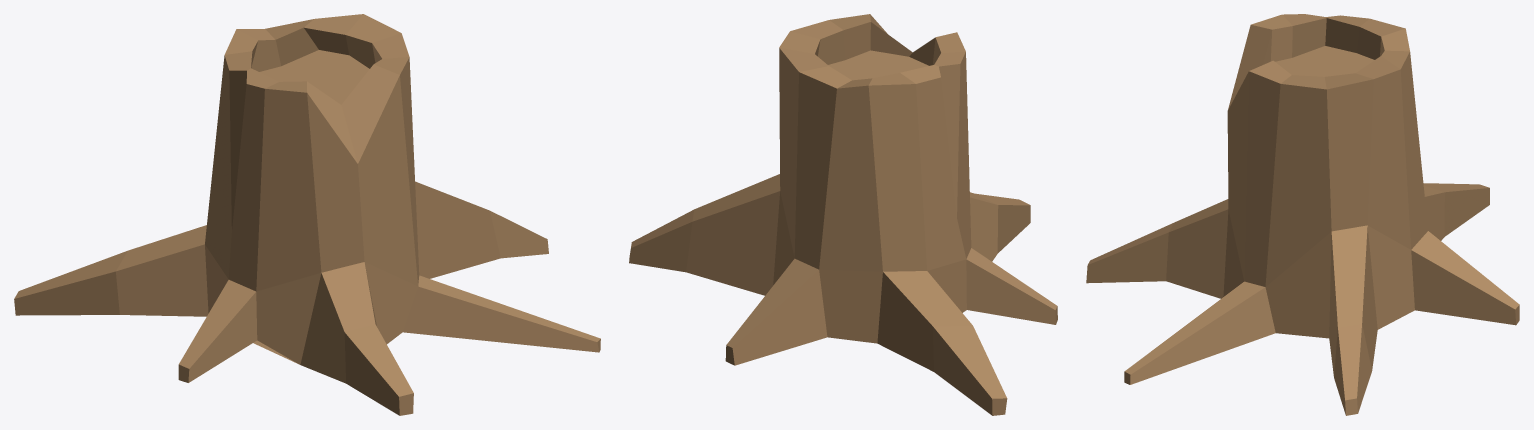
Rendered from lp_ancient_root.glb.
3 views of the same model, side by side, from view 1: azimuth 30°, elevation 25°; view 2: azimuth 150°, elevation 25°; view 3: azimuth 270°, elevation 25° (orthographic). The views are drawn at different scales.
Visible parts, largest first — view 1: lp_ancient_root; view 2: lp_ancient_root; view 3: lp_ancient_root.
Part boxes in pixels (left/top/right/bottom): lp_ancient_root: left=14, top=14, right=600, bottom=415; lp_ancient_root: left=629, top=14, right=1057, bottom=415; lp_ancient_root: left=1086, top=14, right=1519, bottom=415.
Bounding box in the file's own units: 0.6449 × 0.36 × 0.548.
